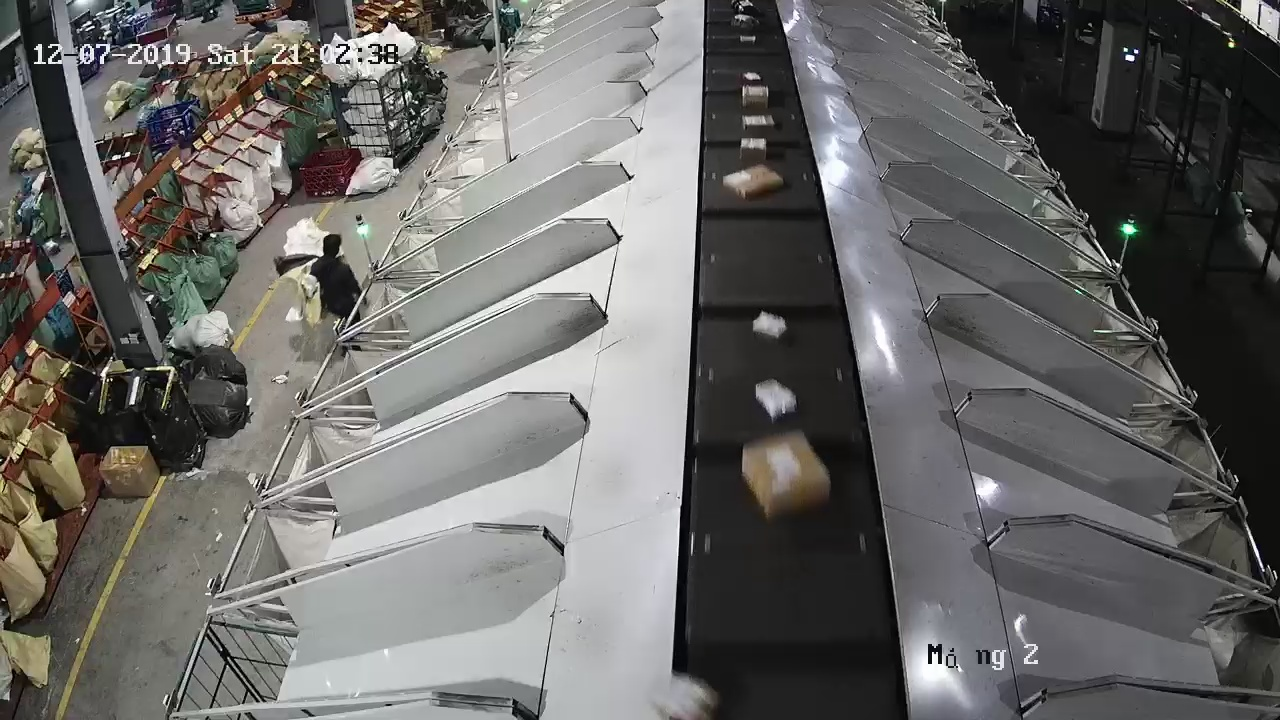parcel: (645, 670, 724, 720)
